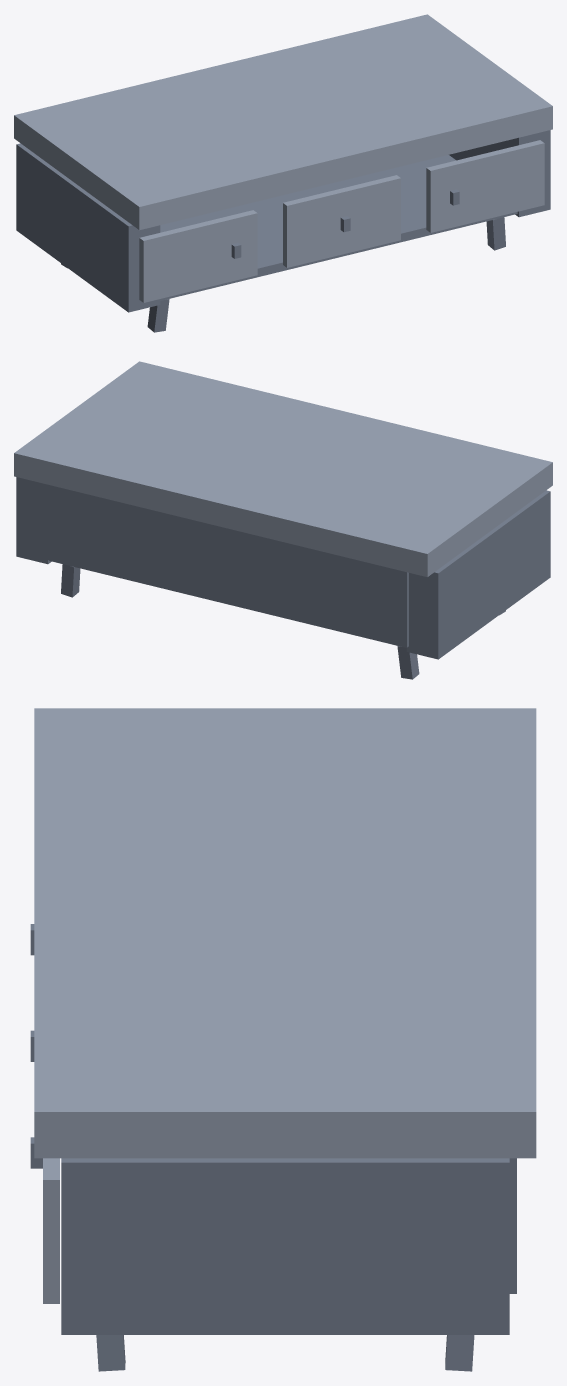
Rendered from squarecoffeetable-lite.glb.
The picture shows the model from 3 angles, top to bottom: view 1: azimuth 30°, elevation 25°; view 2: azimuth 150°, elevation 25°; view 3: azimuth 270°, elevation 25°; orthographic projection. The views are drawn at different scales.
Visible parts, largest first — view 1: ha-bridge-v1-squarecoffeetable; view 2: ha-bridge-v1-squarecoffeetable; view 3: ha-bridge-v1-squarecoffeetable.
Part boxes in pixels (x1=…): ha-bridge-v1-squarecoffeetable: x1=14, y1=14, x2=552, y2=332; ha-bridge-v1-squarecoffeetable: x1=14, y1=361, x2=552, y2=679; ha-bridge-v1-squarecoffeetable: x1=30, y1=708, x2=536, y2=1371.
Size of the model in its own units: 1.4 by 0.4626 by 0.7265.
